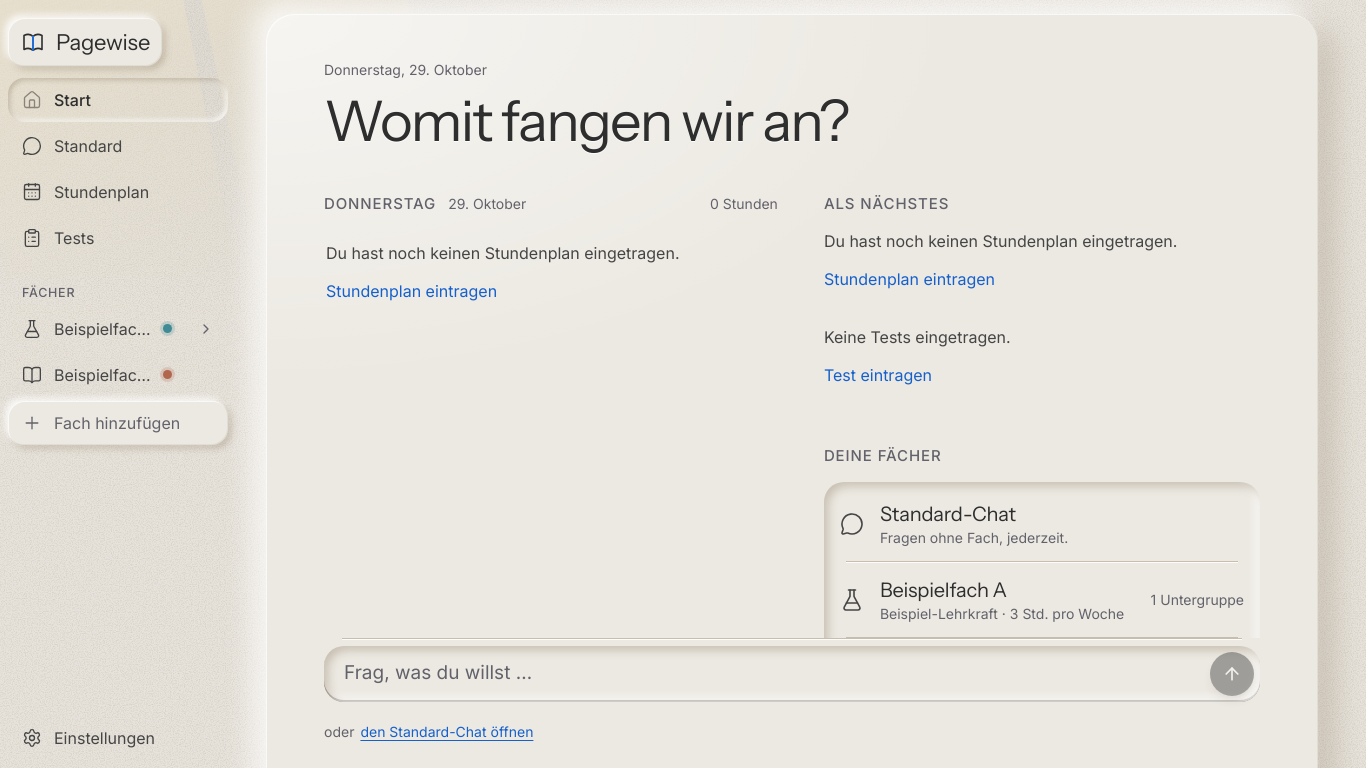
App-Rahmen › scrollt beim Fachwechsel nach oben und legt den Fokus auf den Inhalt
The image size is (1366, 768).
Click the link "Beispielfach A" at (97, 329), box [22, 319, 172, 339]
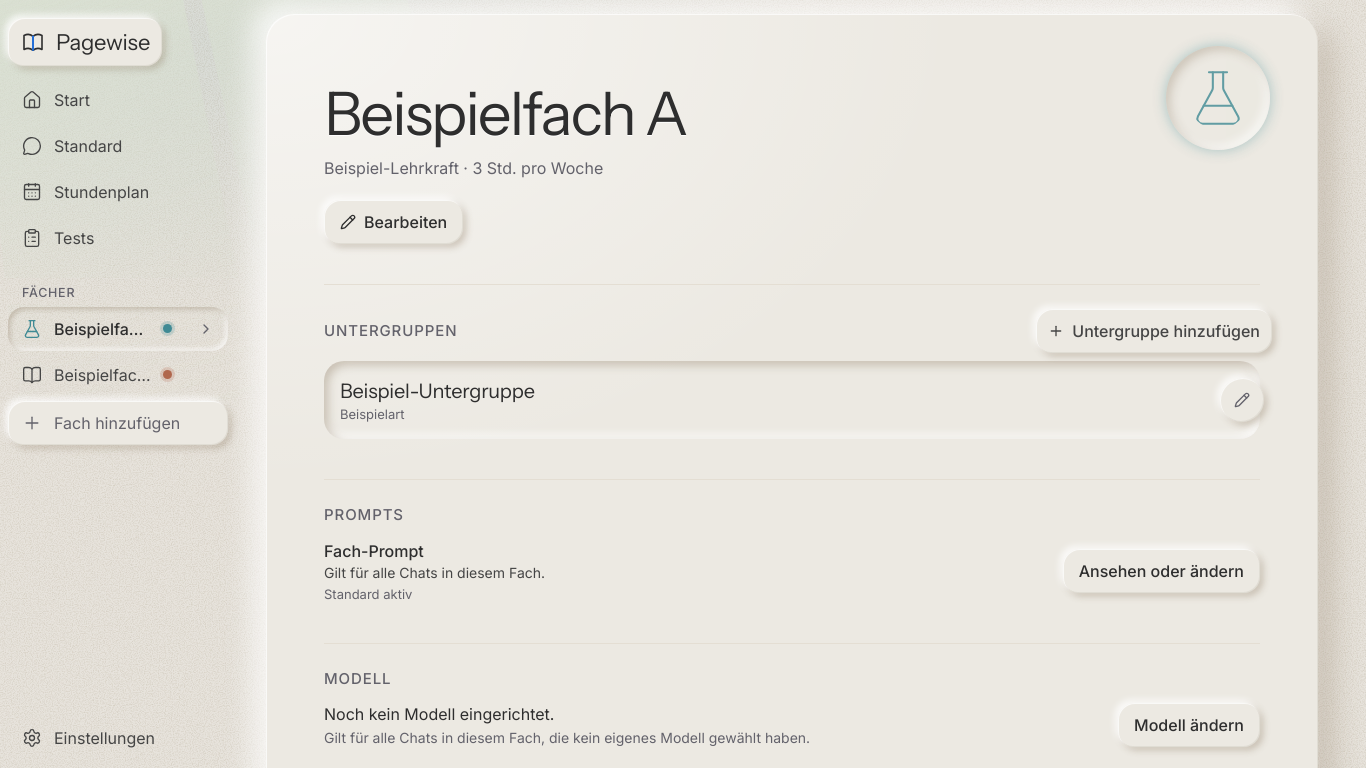
Click the link "Beispielfach B" at (97, 375), box [22, 365, 172, 385]
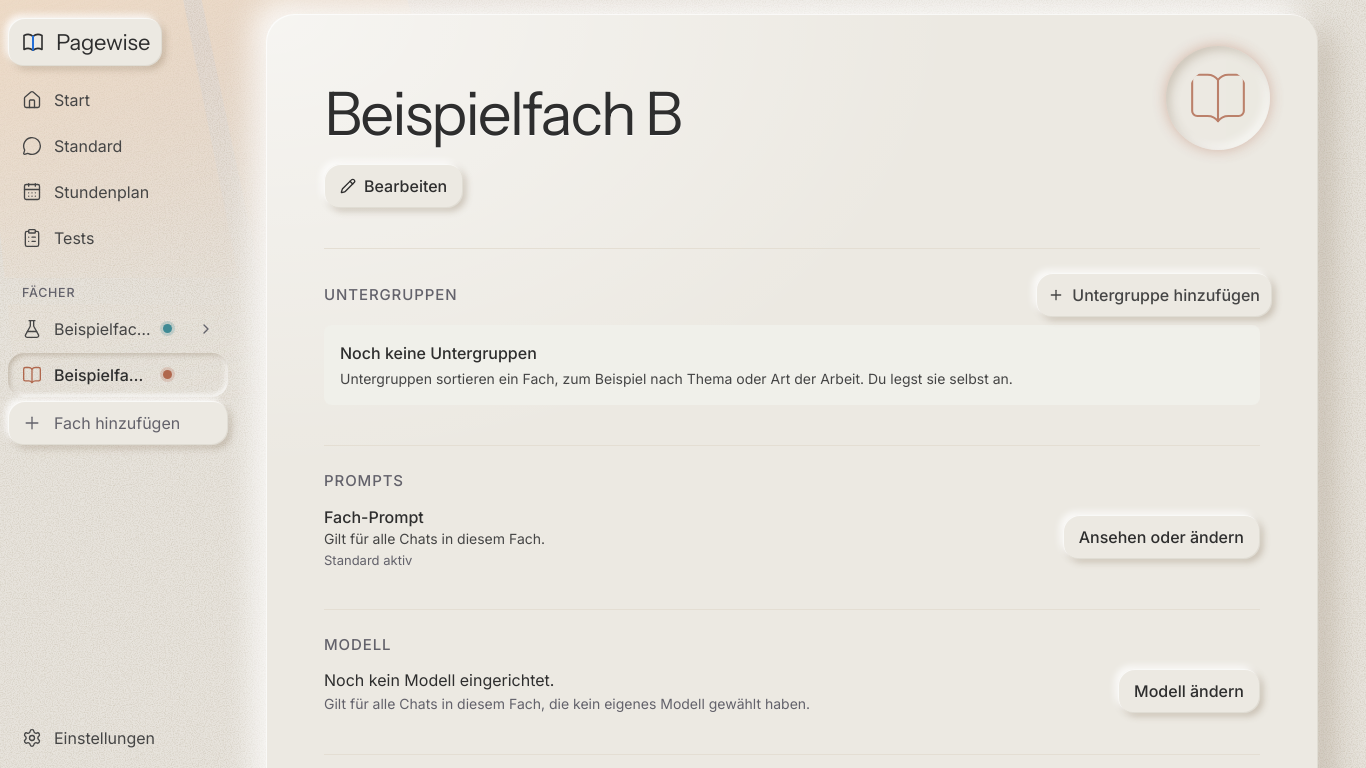
Check: the heading "Beispielfach B" is shown, box [324, 84, 681, 144]
